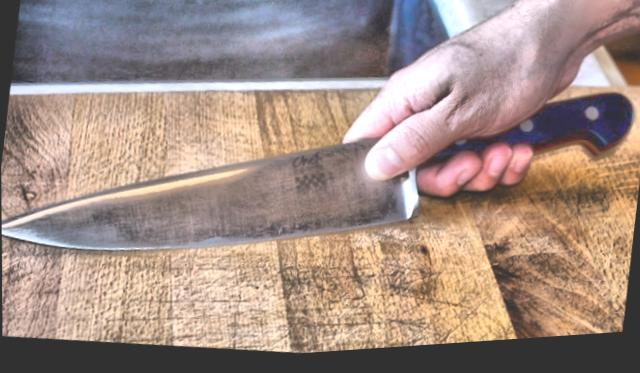knife: (0, 4, 552, 317)
